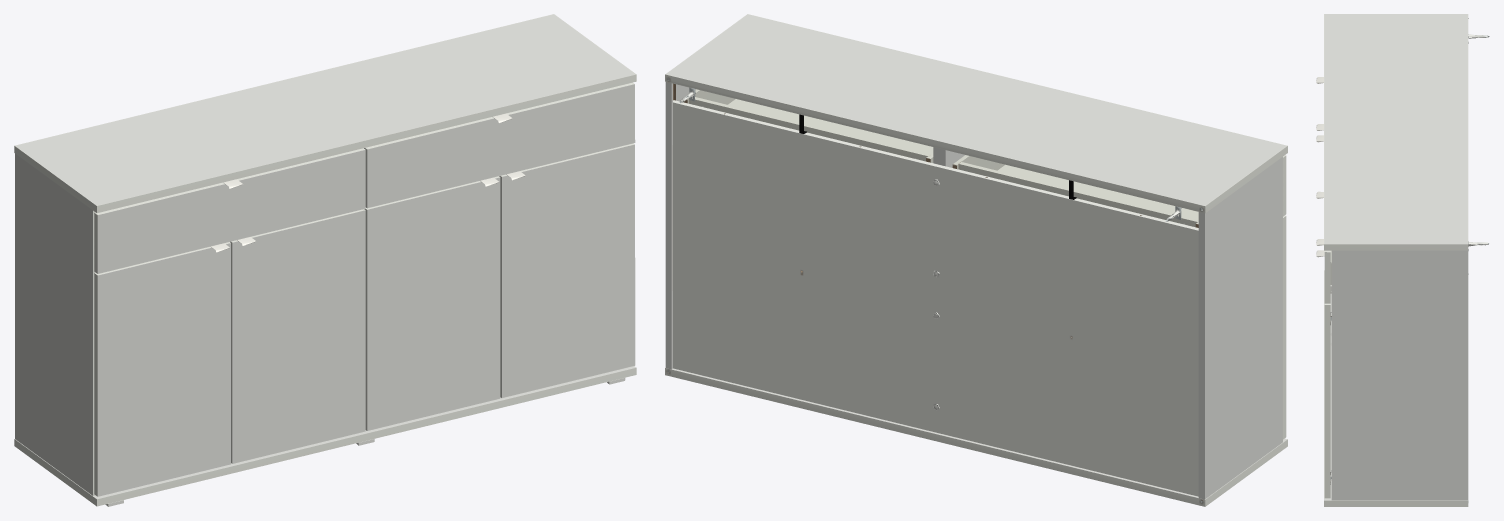
File: 09 - VIHALS Sideboard - white 140x37x75 cm.glb
3 renders of one model, left to right at view 1: azimuth 30°, elevation 25°; view 2: azimuth 150°, elevation 25°; view 3: azimuth 270°, elevation 25°, orthographic. The views are drawn at different scales.
Visible parts, largest first — view 1: Mesh_1; view 2: Mesh_1; view 3: Mesh_1.
Part boxes in pixels (left/top/right/bottom): Mesh_1: left=14, top=14, right=636, bottom=506; Mesh_1: left=665, top=14, right=1287, bottom=506; Mesh_1: left=1316, top=14, right=1489, bottom=506.
Bounding box in the file's own units: 1.39 × 0.7499 × 0.4441.
Materials: 2 (2 with a texture image).
